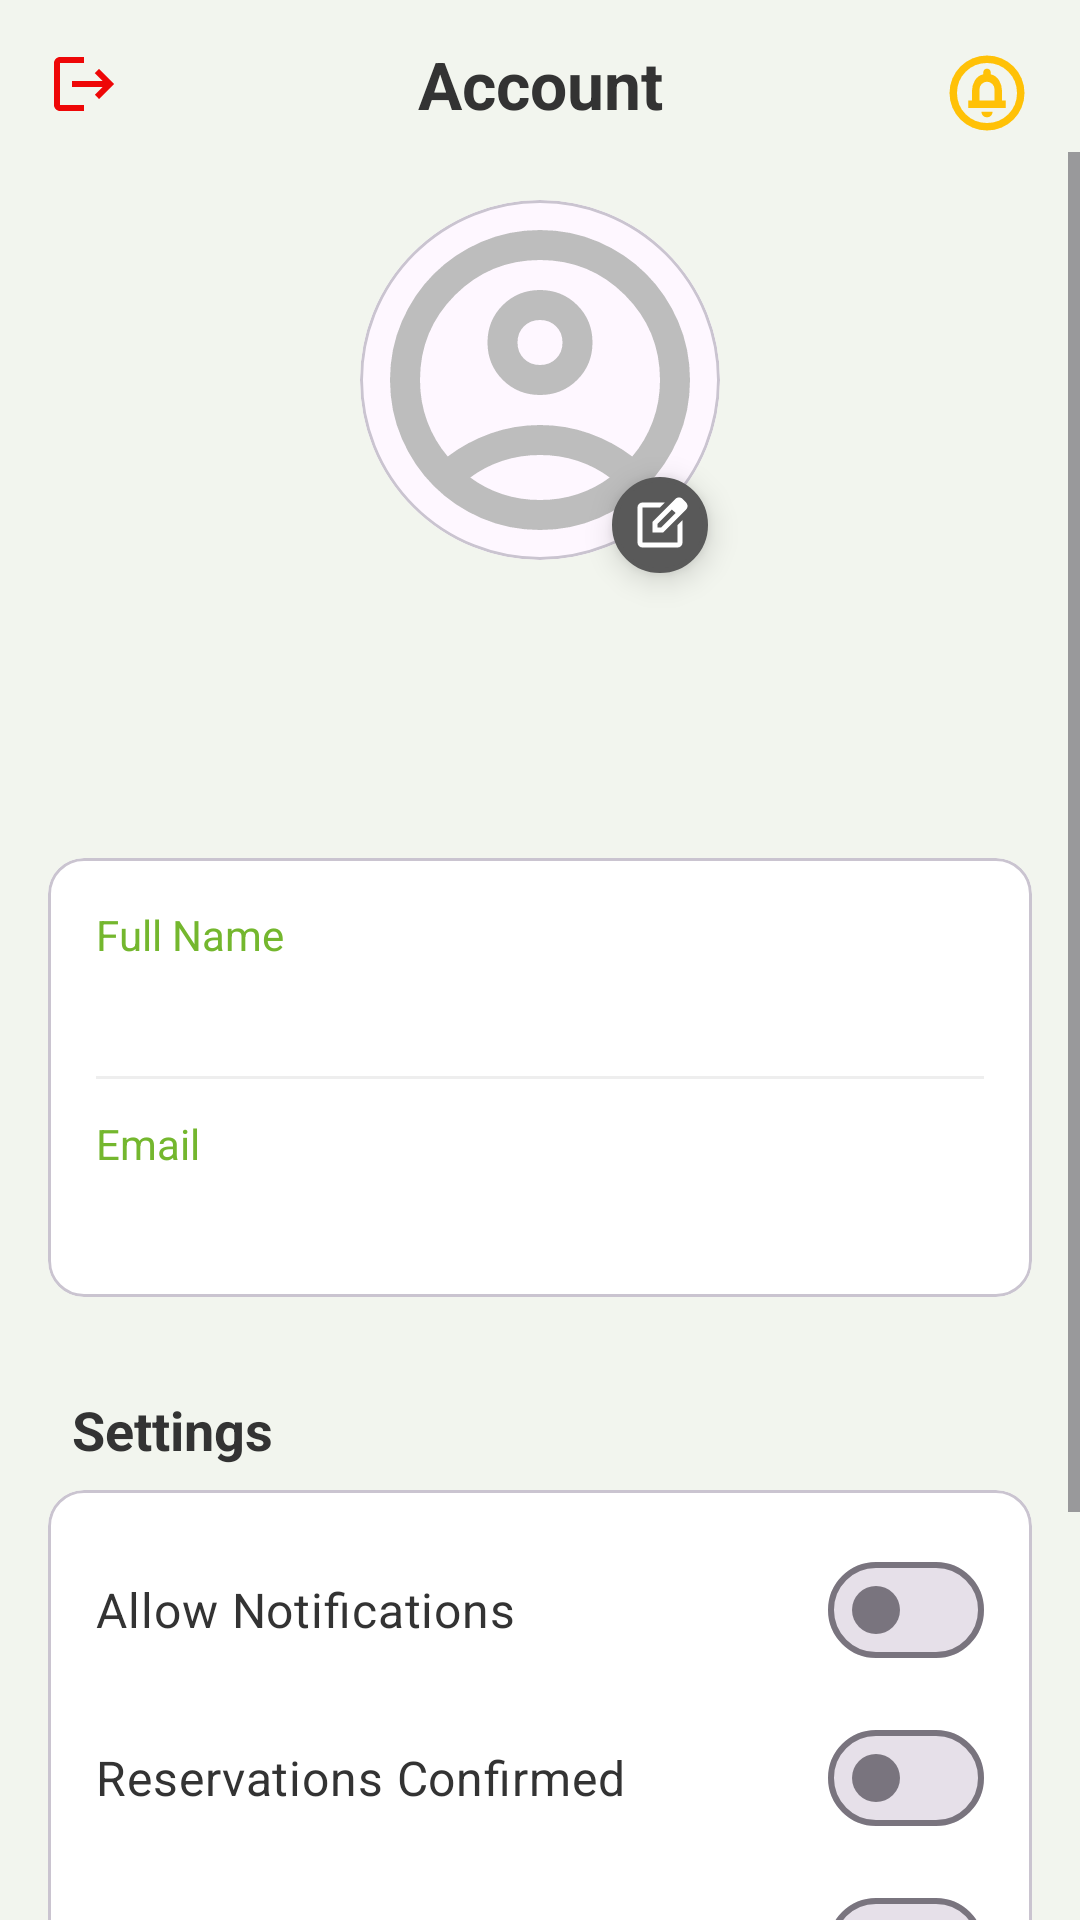

Icon bounding boxes for this 1080×1920 phone screenshot, format (x1, y1, x2, y2):
Notifications: (949, 55, 1025, 131)
